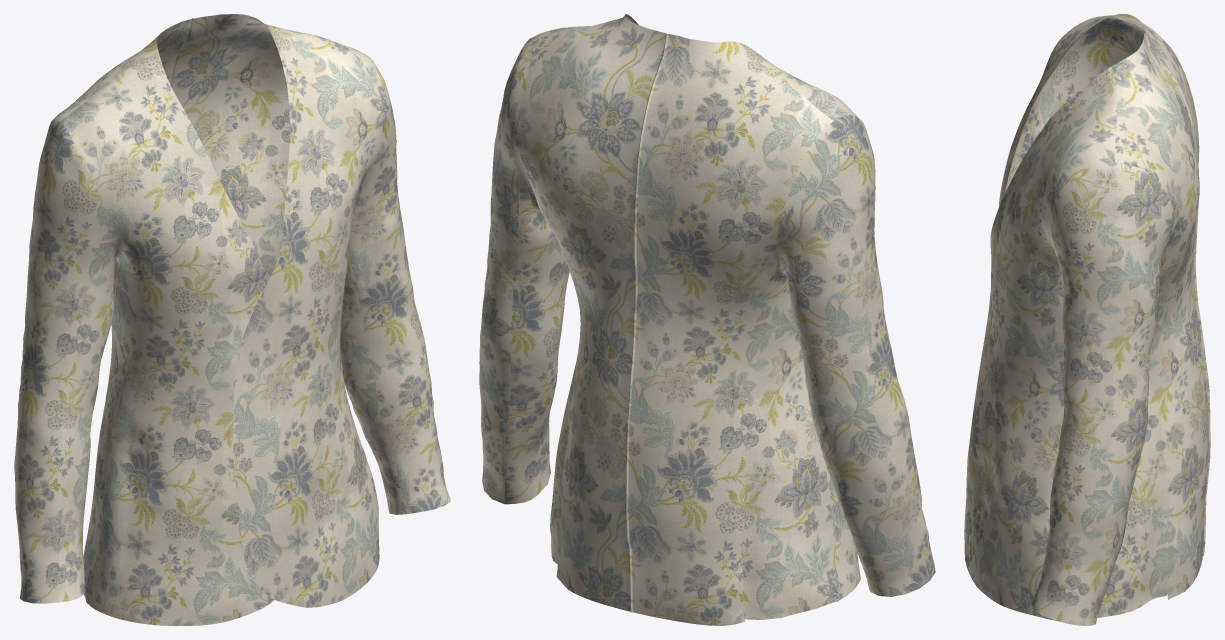
File: full_lining_side_vents.glb
3 renders of one model, left to right at view 1: azimuth 30°, elevation 25°; view 2: azimuth 150°, elevation 25°; view 3: azimuth 270°, elevation 25°, orthographic. The views are drawn at different scales.
Parts seen in each view (by area): view 1: Side Vents; view 2: Side Vents; view 3: Side Vents.
Part boxes in pixels (box(x1,y1,x2,y2)): Side Vents: box(14, 14, 450, 625); Side Vents: box(479, 14, 935, 625); Side Vents: box(964, 14, 1210, 625).
Size of the model in its own units: 60.44 by 73.26 by 31.1.
Materials: 1 (1 with a texture image).
